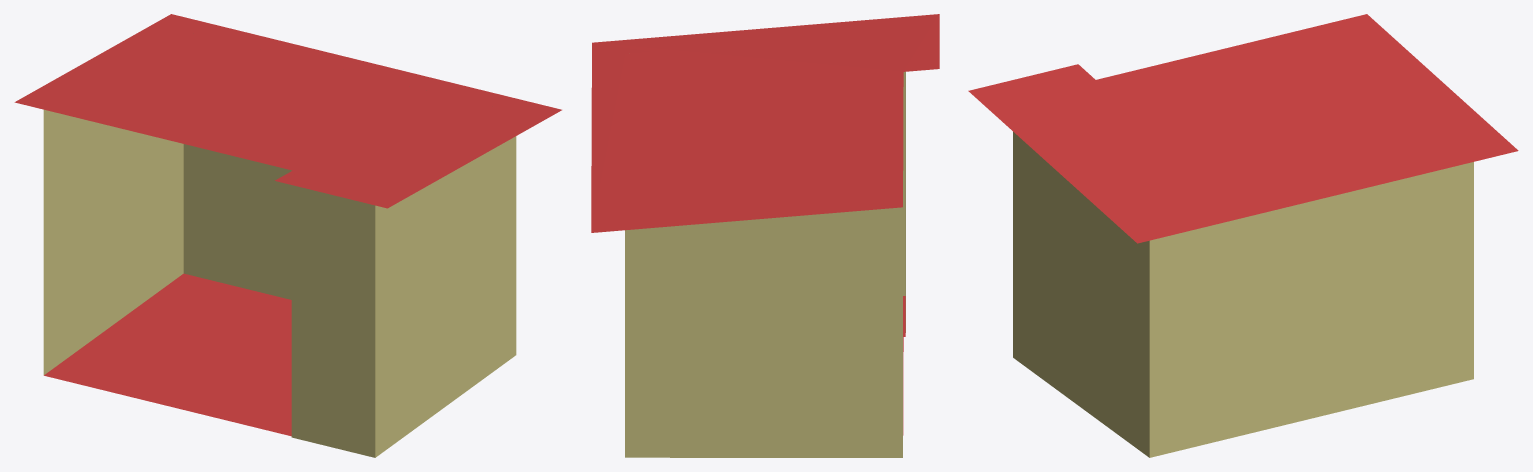
The picture shows the model from 3 angles, left to right: view 1: azimuth 30°, elevation 25°; view 2: azimuth 150°, elevation 25°; view 3: azimuth 270°, elevation 25°; orthographic projection. The views are drawn at different scales.
Size of the model in its own units: 11 by 12.54 by 6.57.
